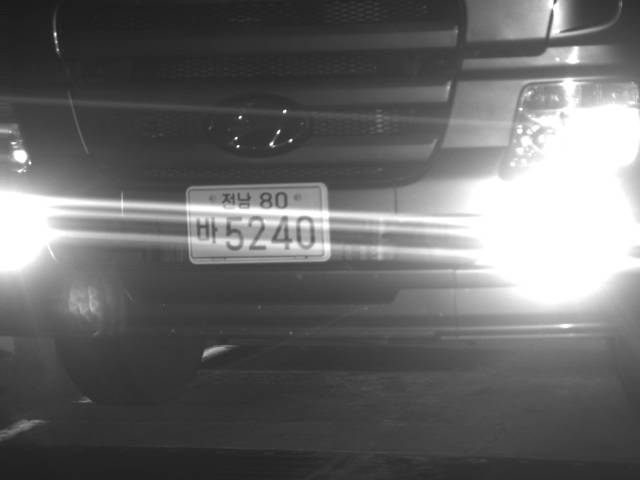car: (1, 1, 639, 407)
plate: (186, 182, 333, 265)
